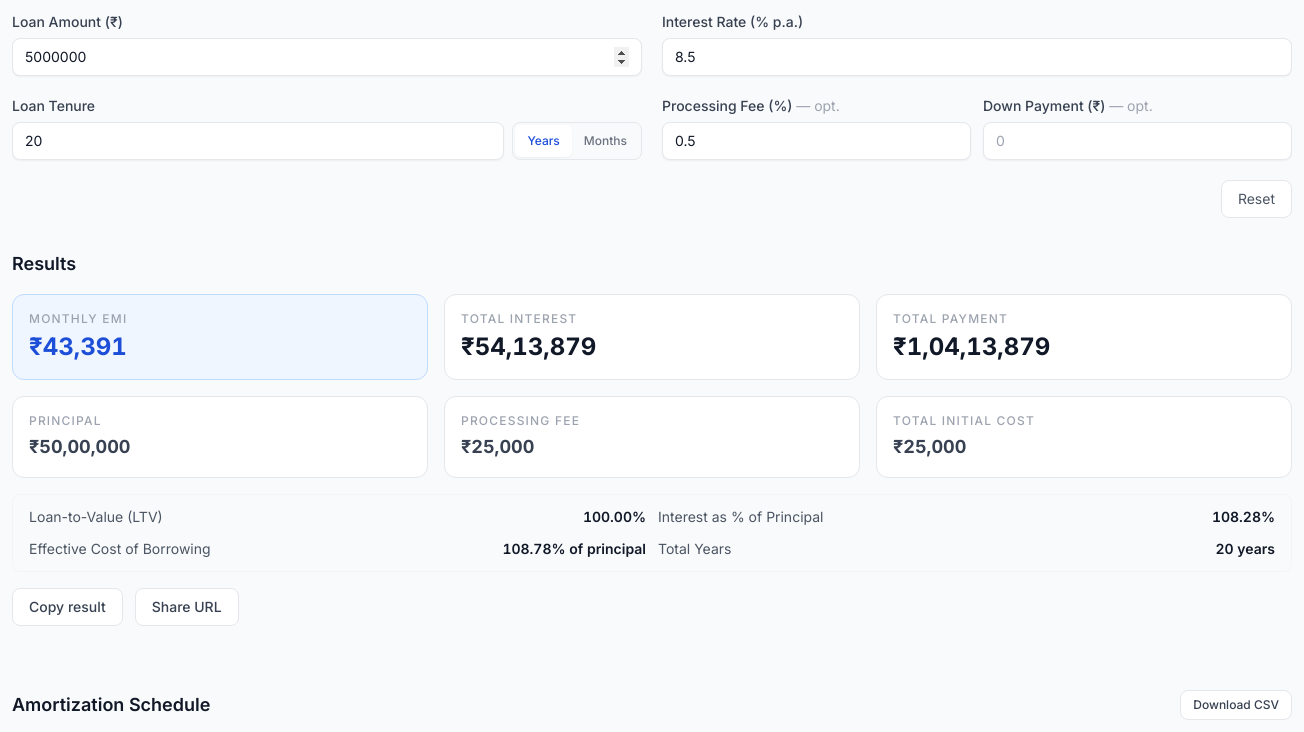
Scenario: HomeLoanCalculator › shows error when loan amount is 0
This screenshot has width=1304, height=732.
Replace the text in the number field labelled "Loan Amount (₹)" with "0": x=327, y=57 [12, 38, 642, 76]
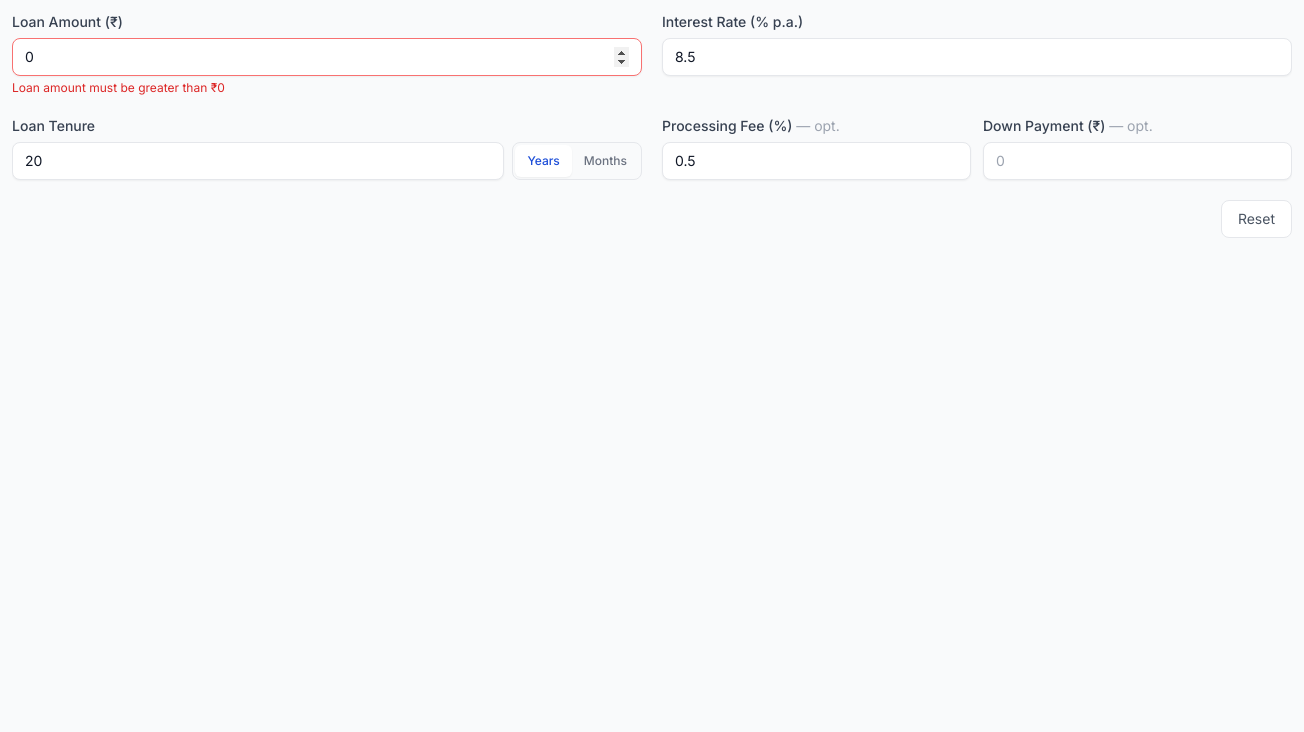
Check: the text "Loan amount must be greater than ₹0" is shown, box [12, 80, 225, 95]
